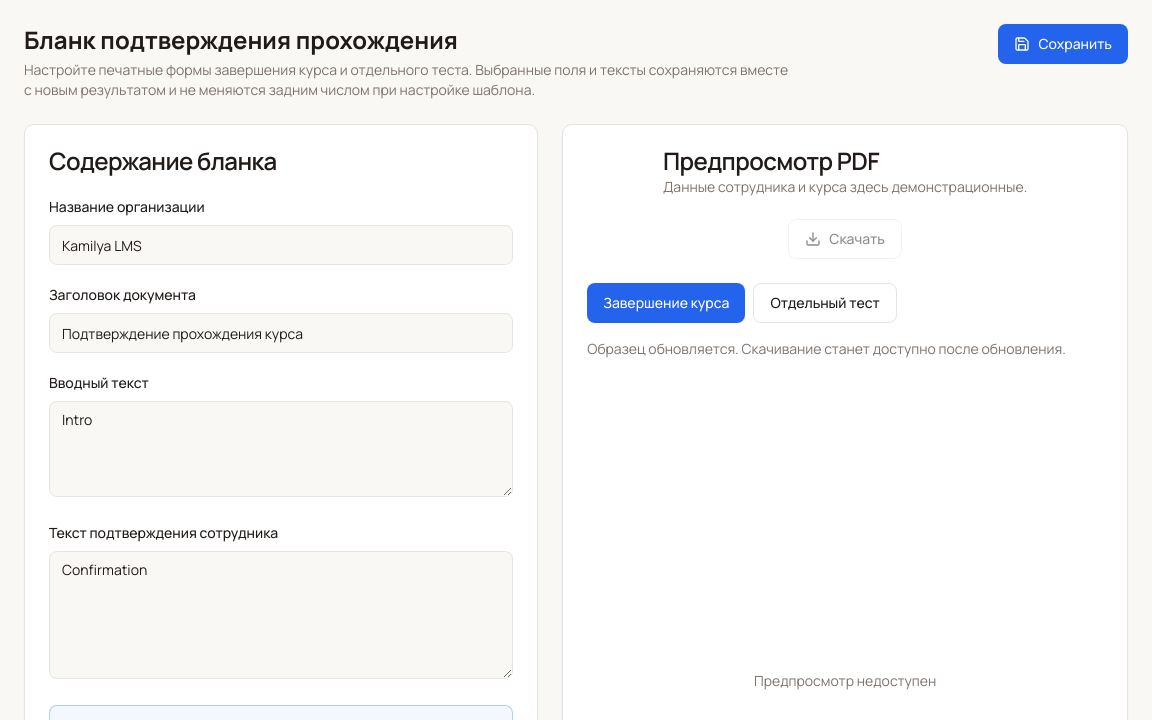
it: training evidence form field builder › requests a separate-test preview when that preview mode is selected
The width and height of the screenshot is (1152, 720).
Click the button "Отдельный тест" at (825, 303), box [753,283,897,323]
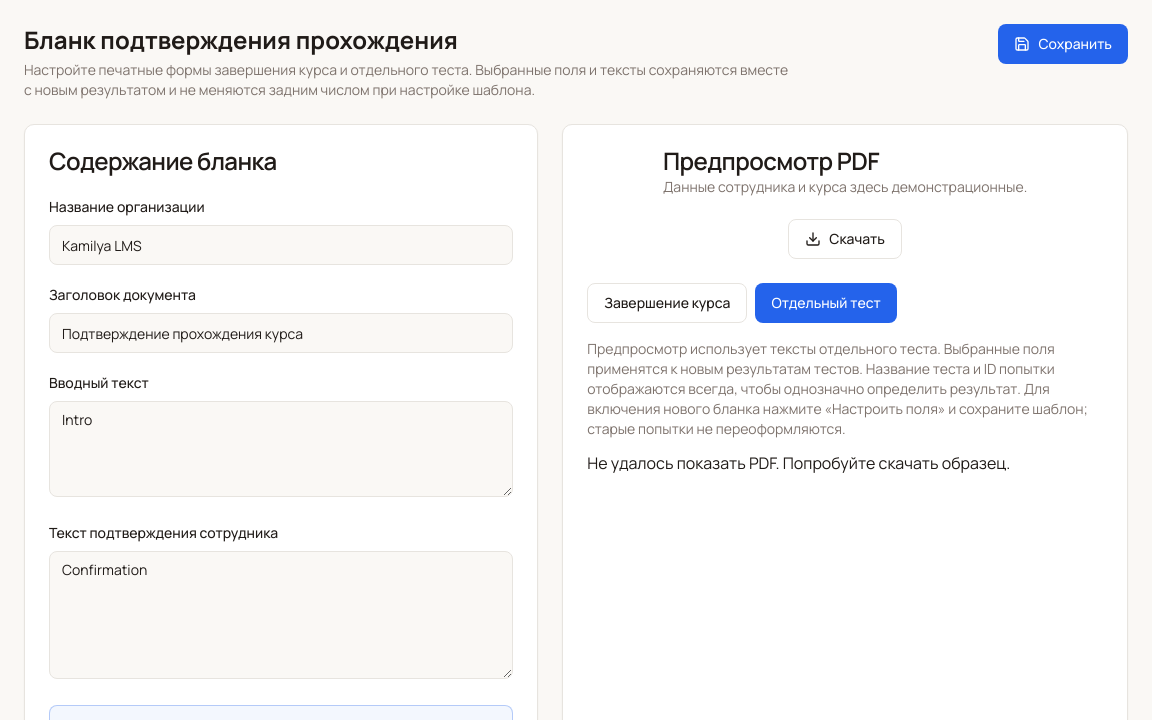
Expected: the text "Название теста и ID попытки отображаются всегда" is shown, [587,339,1088,438]
